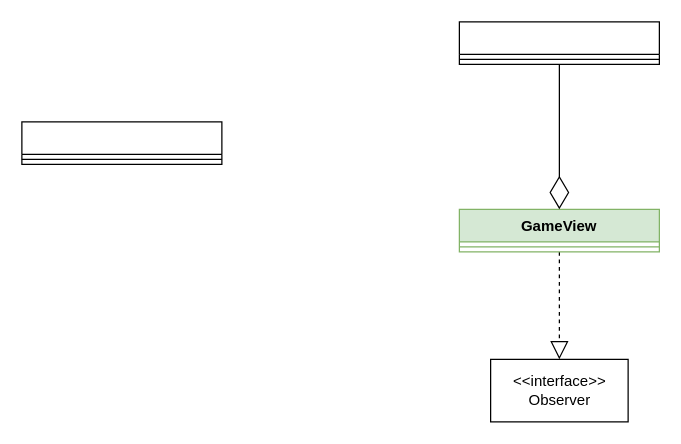
Image size: 681x444. Some labels were removed from this diagram. The shapes that lost their labels are listed below. From the top down, each one's centre as x and y in pixels, then its label:
At (x=558, y=42): "GridView".
At (x=121, y=142): "GameSettings".
